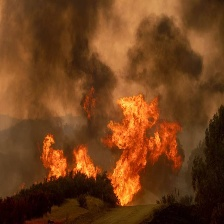fire: (105, 92, 184, 205), (32, 133, 73, 182), (69, 143, 102, 183), (82, 89, 95, 123)
smoke: (2, 1, 222, 112)
